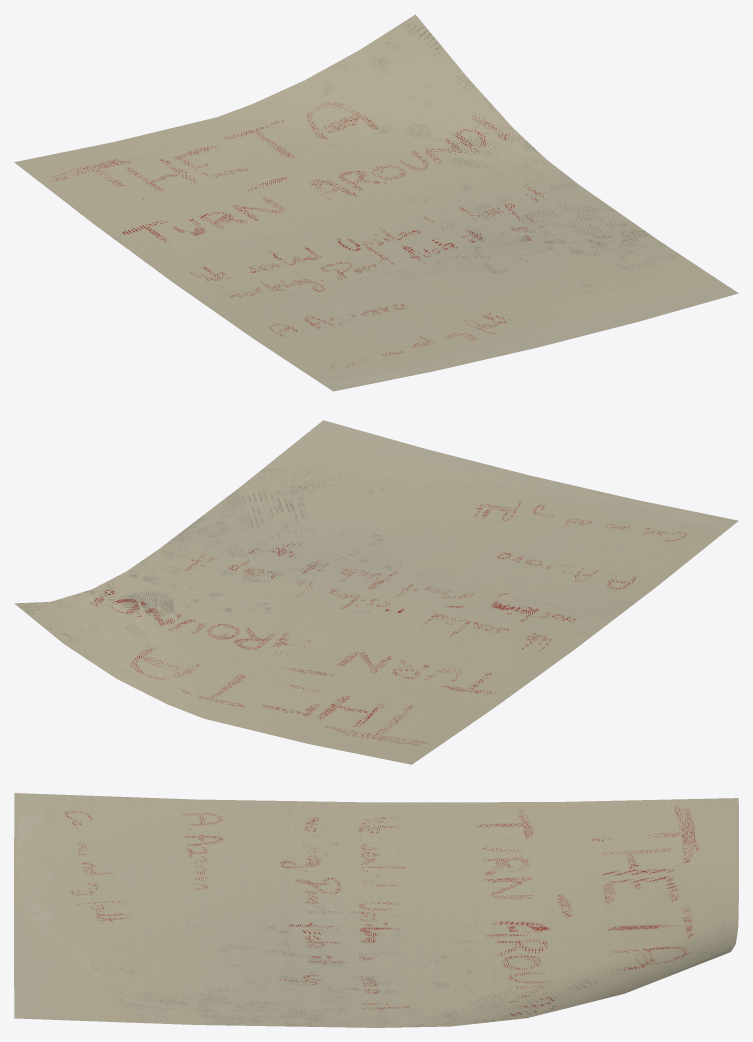
File: notes_upsilon_theta.dae
3 renders of one model, top to bottom at view 1: azimuth 30°, elevation 25°; view 2: azimuth 150°, elevation 25°; view 3: azimuth 270°, elevation 25°, orthographic. The views are drawn at different scales.
Parts seen in each view (by area): view 1: 01; view 2: 01; view 3: 01.
Part boxes in pixels (x1,y1,x2,y2): 01: (14,14,738,391); 01: (14,420,738,764); 01: (14,793,738,1027).
Size of the model in its own units: 0.3849 by 0.0598 by 0.5251.
